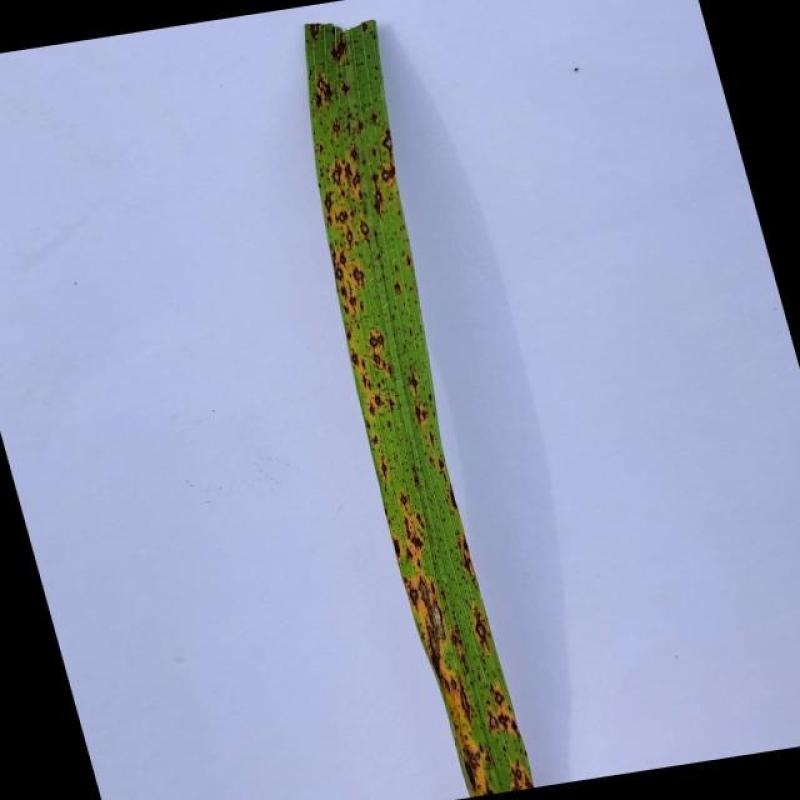Leaf_Blast: (405, 578, 447, 676), (473, 606, 492, 652), (462, 745, 481, 790), (456, 680, 474, 725), (315, 72, 334, 103), (330, 36, 350, 65), (382, 128, 398, 160), (380, 162, 398, 184), (330, 162, 345, 188), (370, 332, 386, 352), (492, 688, 507, 709), (495, 711, 510, 732), (409, 370, 421, 396), (373, 190, 385, 216), (461, 555, 475, 577), (343, 225, 355, 250), (344, 163, 356, 188), (488, 711, 502, 732), (414, 405, 428, 424), (392, 538, 403, 562), (404, 516, 415, 540), (359, 218, 370, 240), (510, 718, 522, 738), (439, 458, 449, 482), (379, 459, 390, 480), (352, 170, 364, 189), (353, 266, 365, 285), (348, 146, 362, 162), (324, 192, 335, 212), (372, 391, 384, 409), (370, 170, 381, 189), (450, 484, 458, 510), (338, 250, 349, 268), (384, 362, 396, 378), (461, 536, 471, 555), (412, 534, 423, 551), (310, 24, 321, 41), (336, 210, 349, 224), (331, 118, 340, 138), (416, 511, 426, 529), (399, 492, 410, 508), (428, 432, 438, 449), (484, 781, 496, 795), (392, 282, 403, 297), (368, 402, 378, 418), (514, 766, 525, 780), (370, 112, 381, 126), (406, 546, 414, 565), (450, 675, 459, 691), (444, 678, 453, 694), (335, 266, 345, 280), (523, 779, 535, 790), (388, 396, 396, 412), (318, 142, 326, 158), (450, 633, 460, 645), (351, 351, 359, 366), (372, 354, 382, 365), (340, 285, 349, 297), (342, 305, 353, 314), (360, 360, 369, 371), (366, 380, 374, 392), (416, 558, 424, 570), (370, 436, 380, 445), (349, 295, 356, 307), (345, 330, 353, 340), (362, 375, 368, 387)
